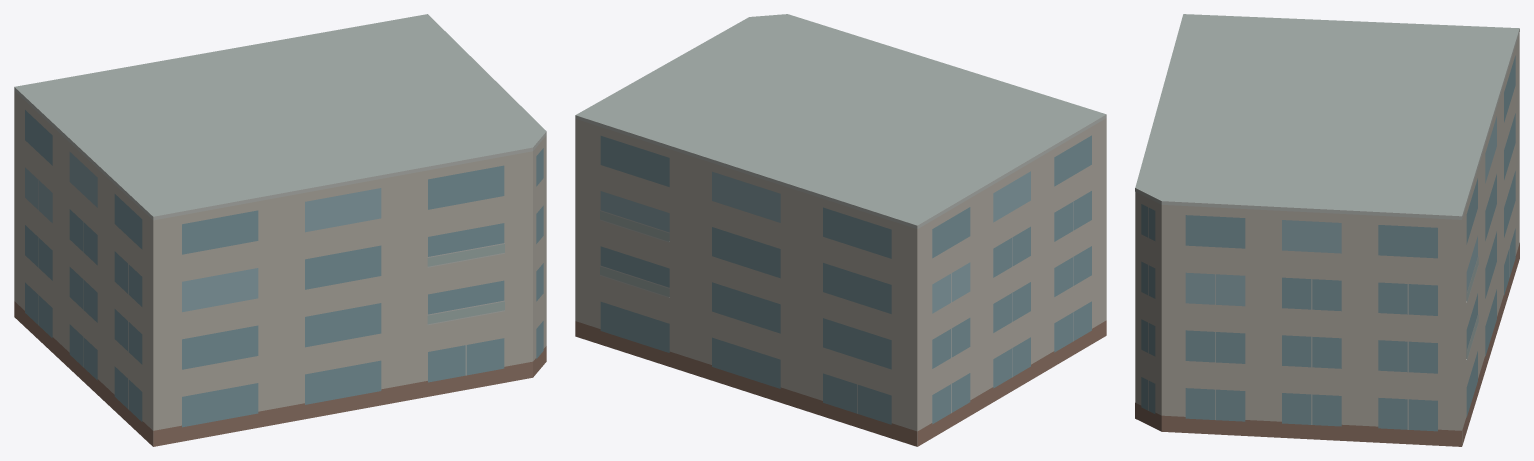
Rendered from survey-upis-32993547.glb.
3 renders of one model, left to right at view 1: azimuth 30°, elevation 25°; view 2: azimuth 150°, elevation 25°; view 3: azimuth 270°, elevation 25°, orthographic. The views are drawn at different scales.
Visible parts, largest first — view 1: survey-upis-32993547.tmp; view 2: survey-upis-32993547.tmp; view 3: survey-upis-32993547.tmp.
Boxes of the visible parts, x1,y1,x2,y2 form: survey-upis-32993547.tmp: (14,14,546,446); survey-upis-32993547.tmp: (575,14,1106,446); survey-upis-32993547.tmp: (1135,14,1519,446).
Size of the model in its own units: 28.6 by 15.2 by 22.98.
